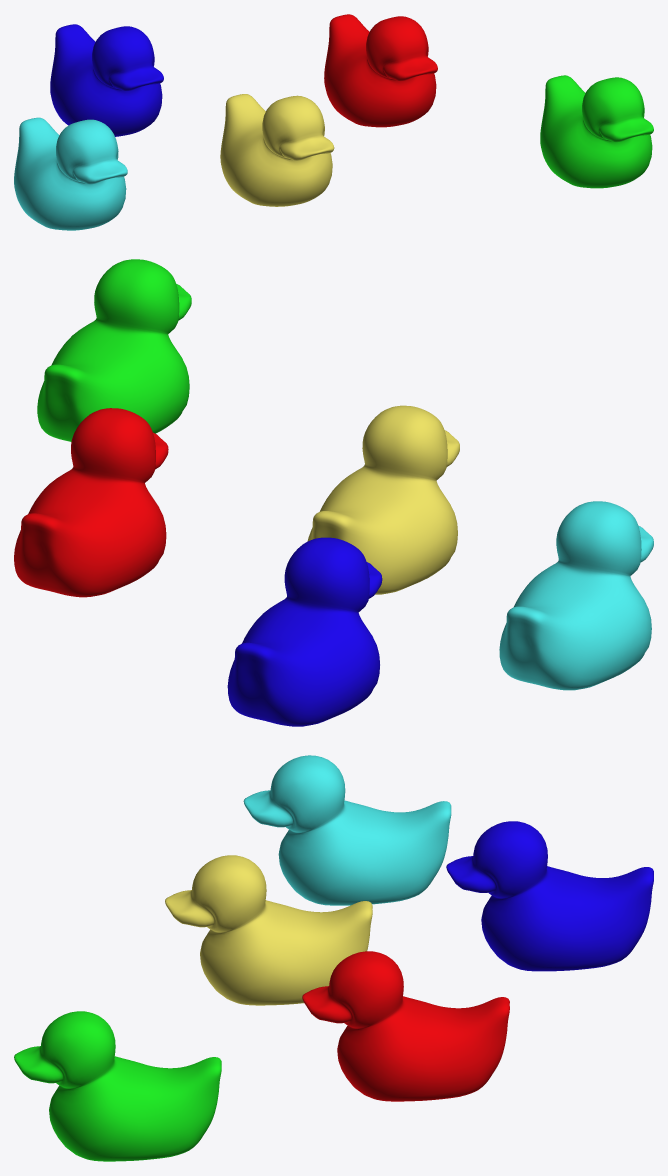
File: dark.glb
3 renders of one model, top to bottom at view 1: azimuth 30°, elevation 25°; view 2: azimuth 150°, elevation 25°; view 3: azimuth 270°, elevation 25°, orthographic. The views are drawn at different scales.
Visible parts, largest first — view 1: Cube.002, Cube.004, Cube, Cube.001, Cube.003; view 2: Cube.001, Cube.003, Cube.002, Cube.004, Cube; view 3: Cube.002, Cube.004, Cube.003, Cube.001, Cube.
Boxes of the visible parts, left/top/right/bottom form: Cube.002: left=324, top=14, right=437, bottom=127; Cube.004: left=540, top=75, right=653, bottom=188; Cube: left=220, top=94, right=334, bottom=206; Cube.001: left=14, top=117, right=127, bottom=230; Cube.003: left=50, top=24, right=163, bottom=136; Cube.001: left=499, top=501, right=653, bottom=690; Cube.003: left=227, top=537, right=382, bottom=726; Cube.002: left=14, top=408, right=168, bottom=597; Cube.004: left=37, top=259, right=191, bottom=441; Cube: left=307, top=405, right=459, bottom=594; Cube.002: left=302, top=951, right=509, bottom=1101; Cube.004: left=14, top=1011, right=221, bottom=1161; Cube.003: left=446, top=821, right=653, bottom=971; Cube.001: left=243, top=755, right=451, bottom=905; Cube: left=165, top=855, right=372, bottom=1005.
Size of the model in its own units: 10.62 by 2.06 by 9.07.
